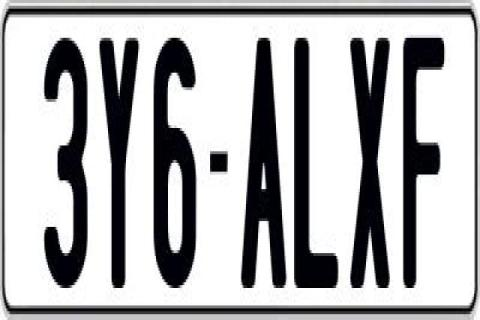0: (40, 35, 90, 303), (152, 35, 196, 291)
A: (239, 35, 291, 297)
F: (402, 29, 450, 279)
L: (294, 38, 340, 302)
X: (350, 35, 392, 294)
Y: (98, 35, 140, 285)
